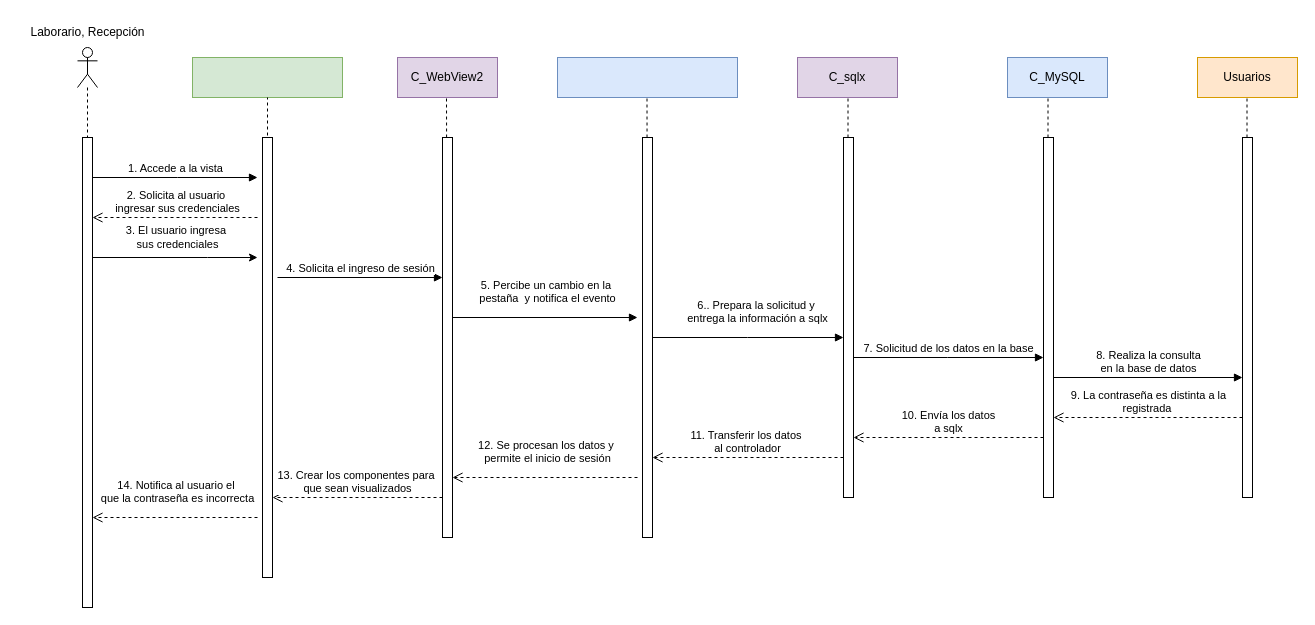
Image size: 1315x625. Some labels were removed from this diagram. The box of each missing label's shape, as (x1, y1, x2, y2) in pixels:
C_Login: (556, 56, 738, 98)
V_Inicio_de_Sesión: (192, 56, 342, 98)
